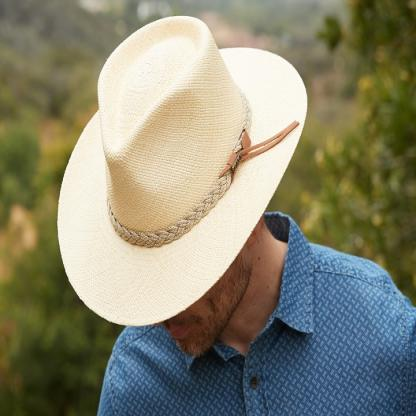hat: (52, 11, 309, 333)
